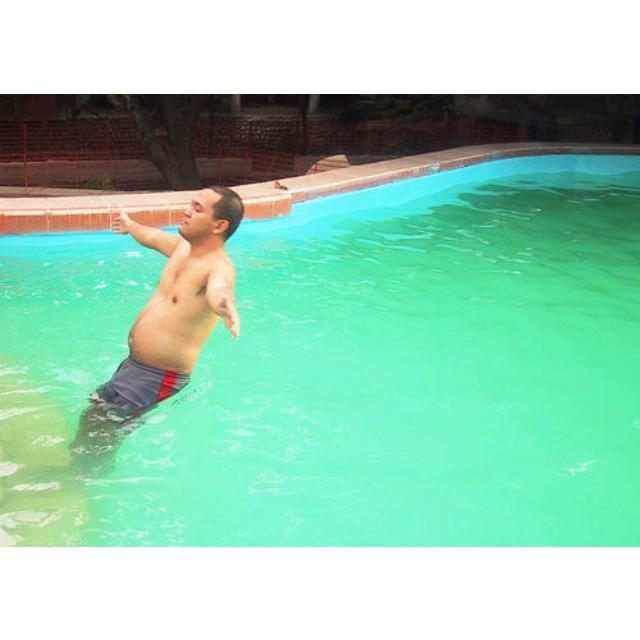human: (77, 183, 252, 459)
